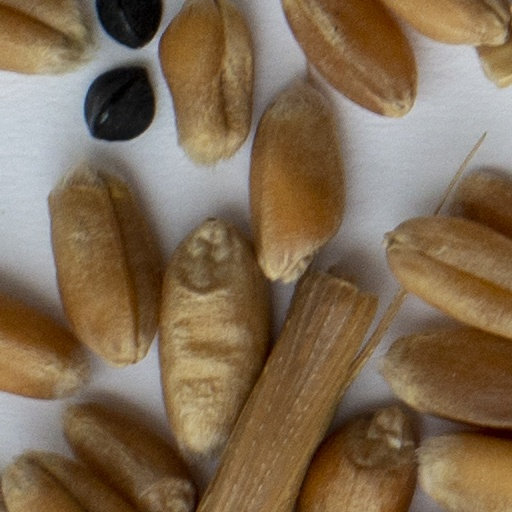Fallopia-Convolvulus-poly: (80, 61, 156, 144), (93, 0, 162, 53)
